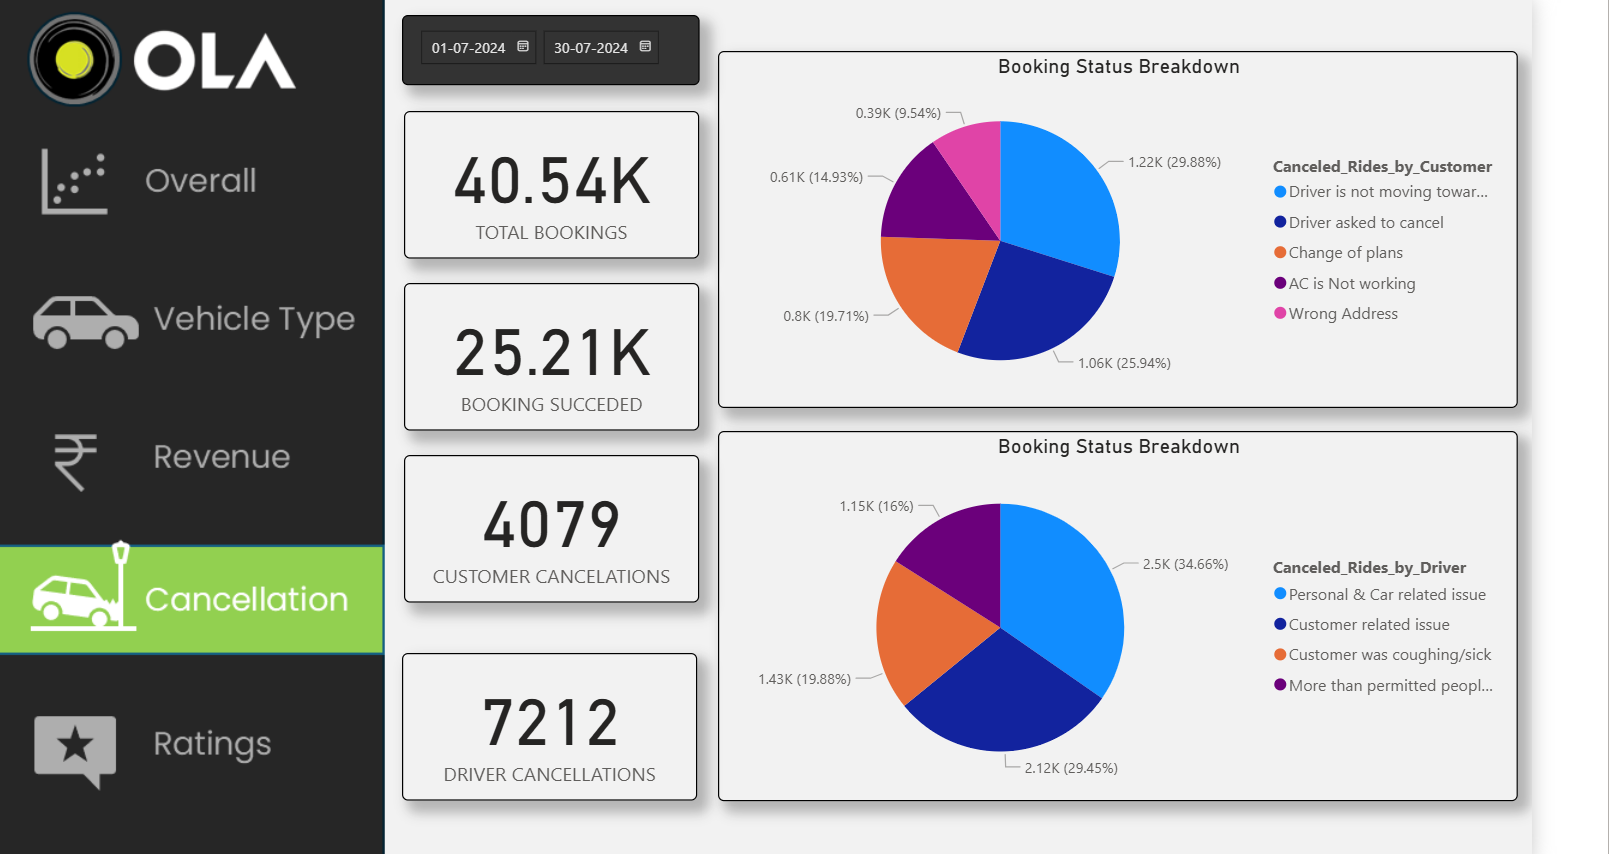

This screenshot's page, from the dashboard's own definition file:
{"tool":"powerbi","page":{"name":"Cancellation","canvas":[1280,720],"ordinal":3},"visuals":[{"type":"actionButton","box":[0,108.9,323.4,87.8],"z":0},{"type":"actionButton","box":[0,229.2,323.4,89.4],"z":1},{"type":"actionButton","box":[0,339.7,323.4,82.9],"z":2},{"type":"actionButton","box":[0,580.2,323.4,89.4],"z":3},{"type":"pieChart","title":"Booking Status Breakdown","fields":{"Category":["Bookings-40000-Rows - July (2).Canceled_Rides_by_Customer","Bookings-40000-Rows - July (2).Booking_Status"],"Y":["CountNonNull(Bookings-40000-Rows - July (2).Booking_ID)"]},"box":[602.1,43.6,666.5,297.3],"z":4},{"type":"pieChart","title":"Booking Status Breakdown","fields":{"Category":["Bookings-40000-Rows - July (2).Canceled_Rides_by_Driver"],"Y":["CountNonNull(Bookings-40000-Rows - July (2).Booking_ID)"]},"box":[602.1,359.8,666.5,308.6],"z":5},{"type":"slicer","title":"DATE","fields":{"Values":["Bookings-40000-Rows - July (2).Date"]},"box":[338.9,13.3,248,58.7],"z":6},{"type":"card","fields":{"Values":["CountNonNull(Bookings-40000-Rows - July (2).Booking_ID)"]},"box":[340.8,92.8,246.2,123.1],"z":7},{"type":"card","fields":{"Values":["CountNonNull(Bookings-40000-Rows - July (2).Booking_ID)"]},"box":[340.8,236.7,246.2,123.1],"z":8},{"type":"card","fields":{"Values":["CountNonNull(Bookings-40000-Rows - July (2).Canceled_Rides_by_Customer)"]},"box":[340.8,380.6,246.2,123.1],"z":9},{"type":"card","fields":{"Values":["CountNonNull(Bookings-40000-Rows - July (2).Canceled_Rides_by_Driver)"]},"box":[338.9,545.3,246.2,123.1],"z":10}]}

Visuals, with their boxes in screenshot pixels (x1, y1, x2, y2):
actionButton: (x1=0, y1=120, x2=376, y2=226)
actionButton: (x1=0, y1=266, x2=376, y2=374)
actionButton: (x1=0, y1=400, x2=376, y2=500)
actionButton: (x1=0, y1=692, x2=376, y2=800)
"Booking Status Breakdown" pieChart: (x1=714, y1=40, x2=1523, y2=401)
"Booking Status Breakdown" pieChart: (x1=714, y1=424, x2=1523, y2=799)
"DATE" slicer: (x1=395, y1=4, x2=696, y2=75)
card - CountNonNull(Bookings-40000-Rows - July (2).Booking_ID): (x1=397, y1=100, x2=696, y2=249)
card - CountNonNull(Bookings-40000-Rows - July (2).Booking_ID): (x1=397, y1=275, x2=696, y2=424)
card - CountNonNull(Bookings-40000-Rows - July (2).Canceled_Rides_by_Customer): (x1=397, y1=449, x2=696, y2=599)
card - CountNonNull(Bookings-40000-Rows - July (2).Canceled_Rides_by_Driver): (x1=395, y1=649, x2=693, y2=799)
